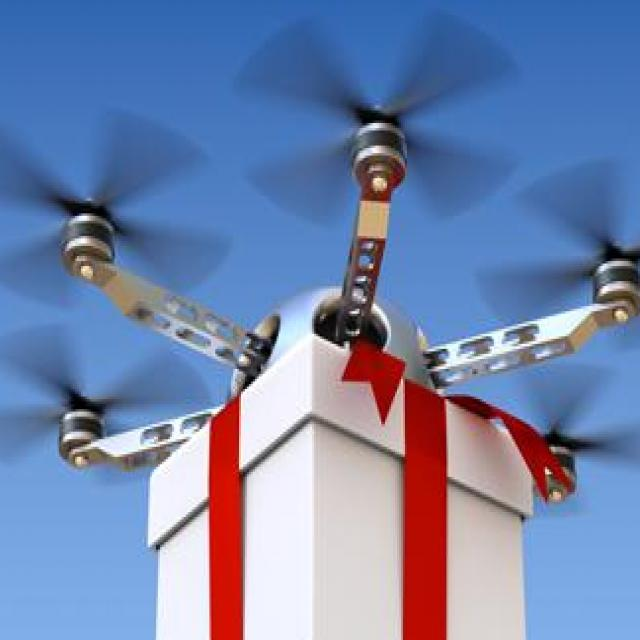drone: (0, 15, 640, 557)
